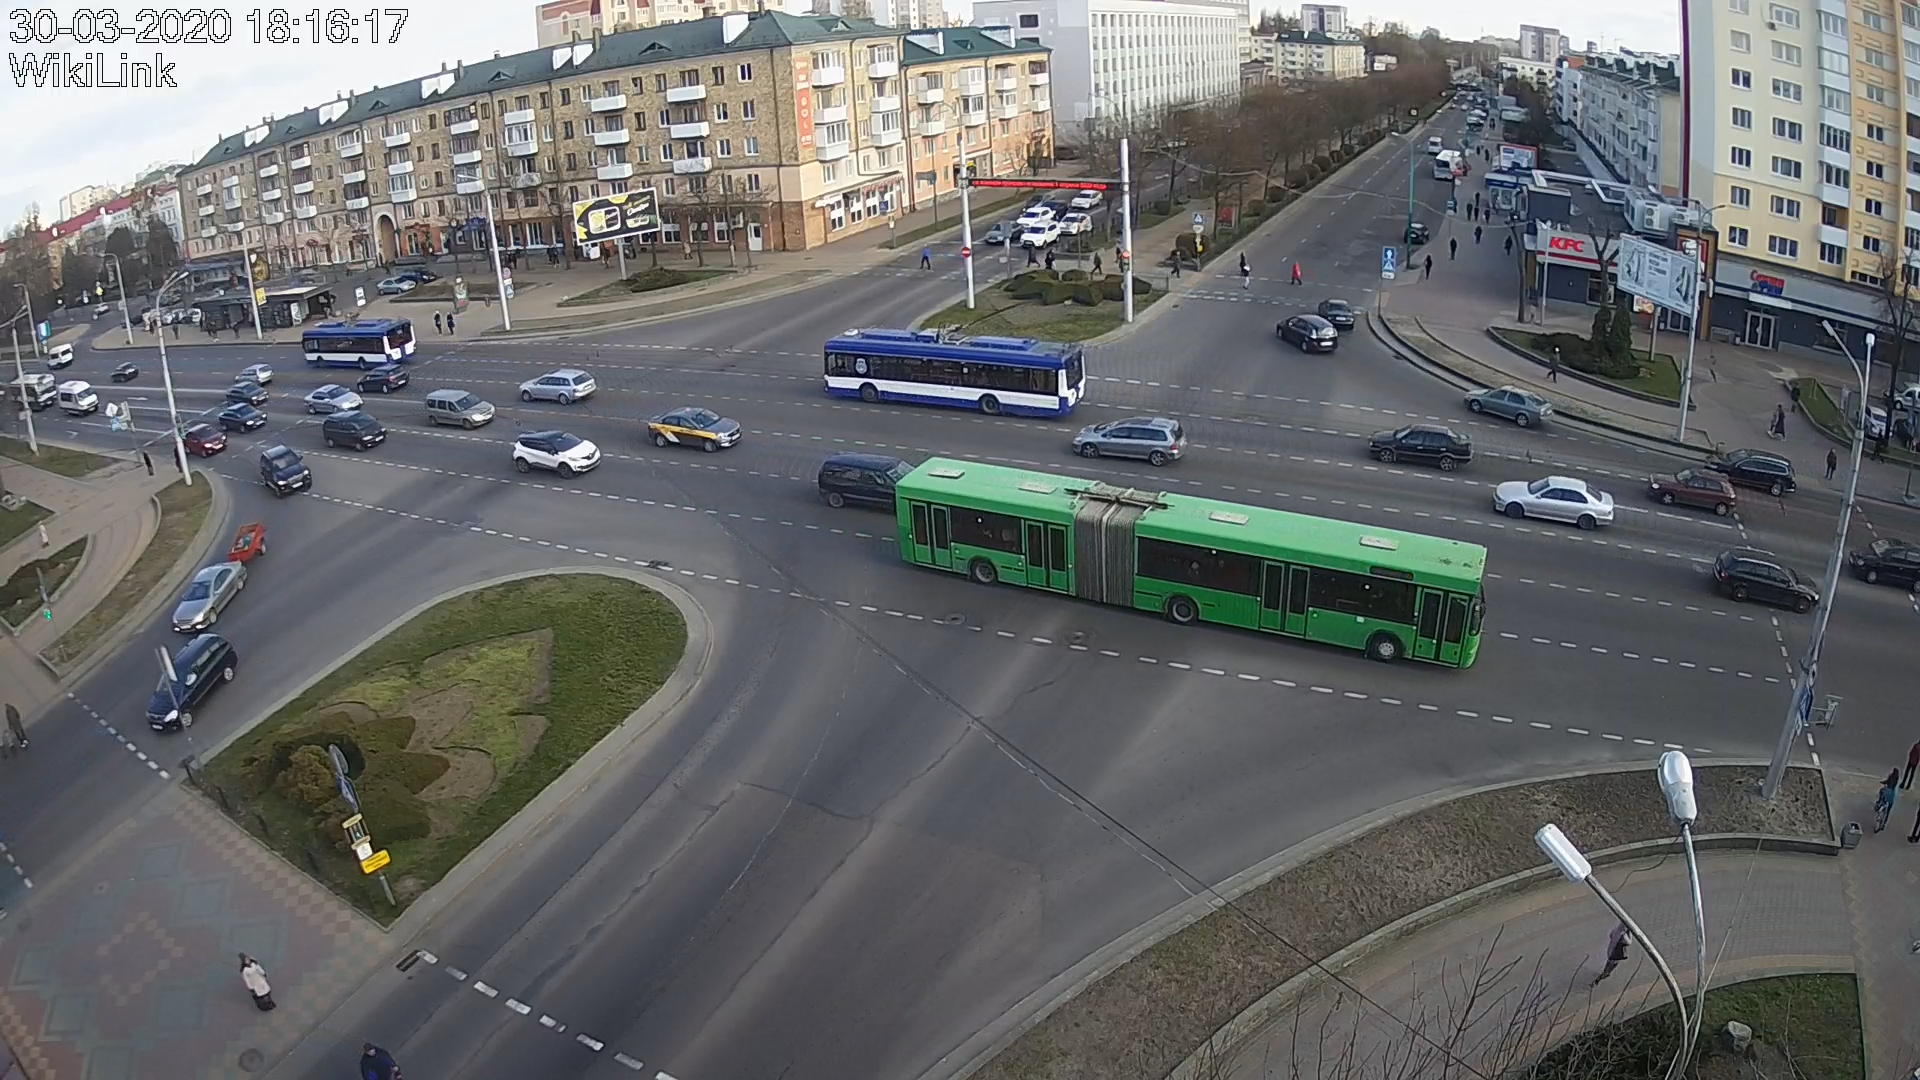bus: (895, 456, 1489, 673), (824, 327, 1088, 417), (302, 319, 419, 369)
car: (146, 633, 239, 732), (1712, 545, 1820, 613), (1493, 473, 1615, 531), (1072, 415, 1188, 468), (818, 451, 915, 513), (171, 559, 247, 634), (1369, 425, 1476, 471), (1702, 448, 1797, 498), (647, 406, 742, 454), (1647, 467, 1735, 517), (512, 430, 601, 479), (1847, 538, 1920, 593), (1462, 385, 1553, 429), (425, 388, 495, 429), (260, 444, 313, 498), (322, 410, 388, 452), (520, 368, 597, 404), (1276, 314, 1338, 353), (305, 384, 364, 414), (179, 425, 228, 458), (357, 364, 410, 394), (219, 404, 266, 434), (1319, 299, 1356, 332), (1021, 220, 1062, 249), (225, 381, 270, 406), (986, 220, 1025, 244), (1017, 206, 1054, 229), (233, 363, 274, 384), (1058, 212, 1092, 235)
